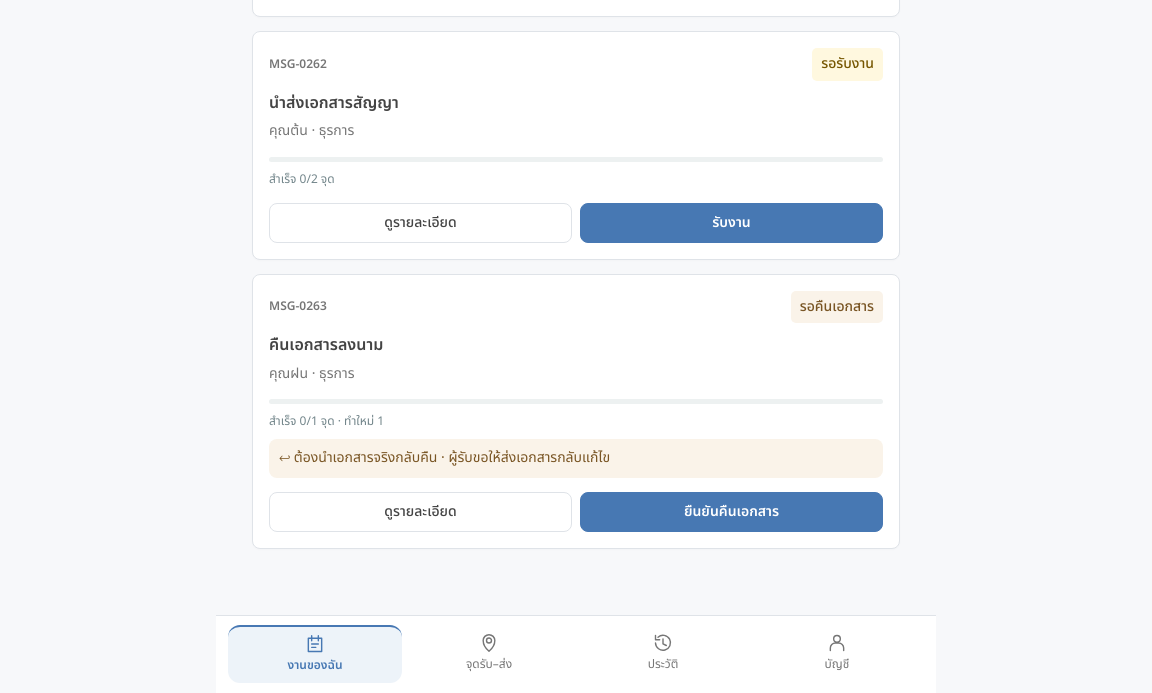
Test case: Messenger Phase 1 › confirms physical return without photos and keeps returned stops read-only
(page scrolled)
Click the button "ยืนยันคืนเอกสาร" at [732, 512], box [580, 492, 883, 532]
(page scrolled)
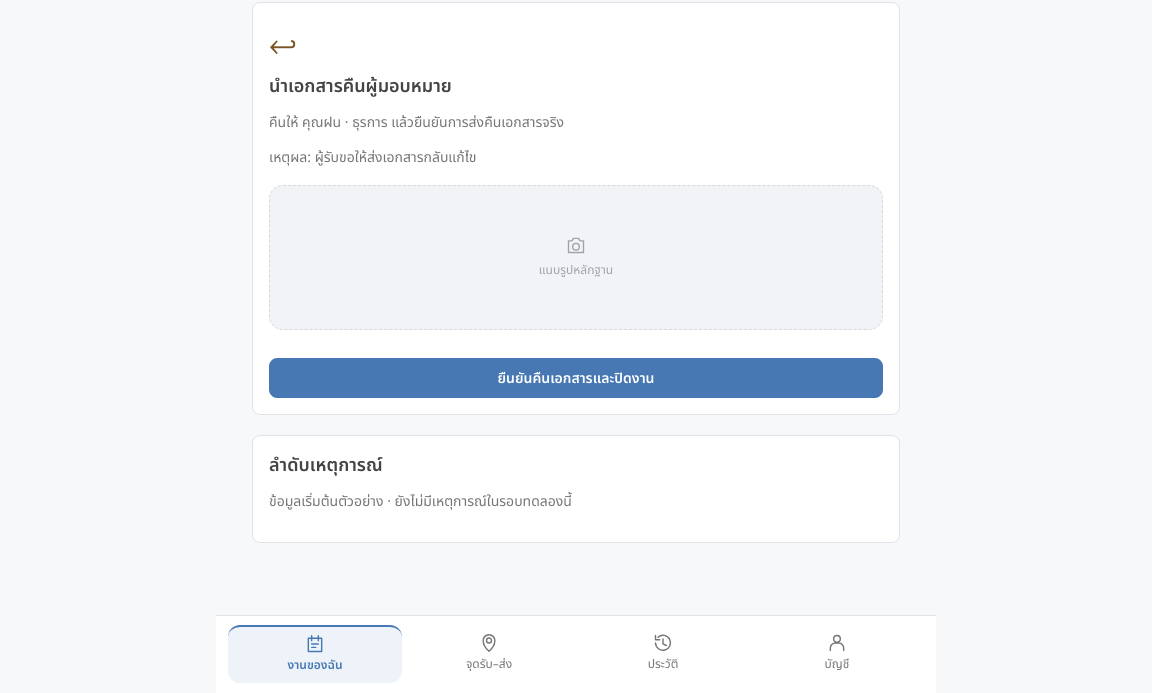
Click the button "ยืนยันคืนเอกสารและปิดงาน" at [576, 378], box [269, 358, 883, 398]
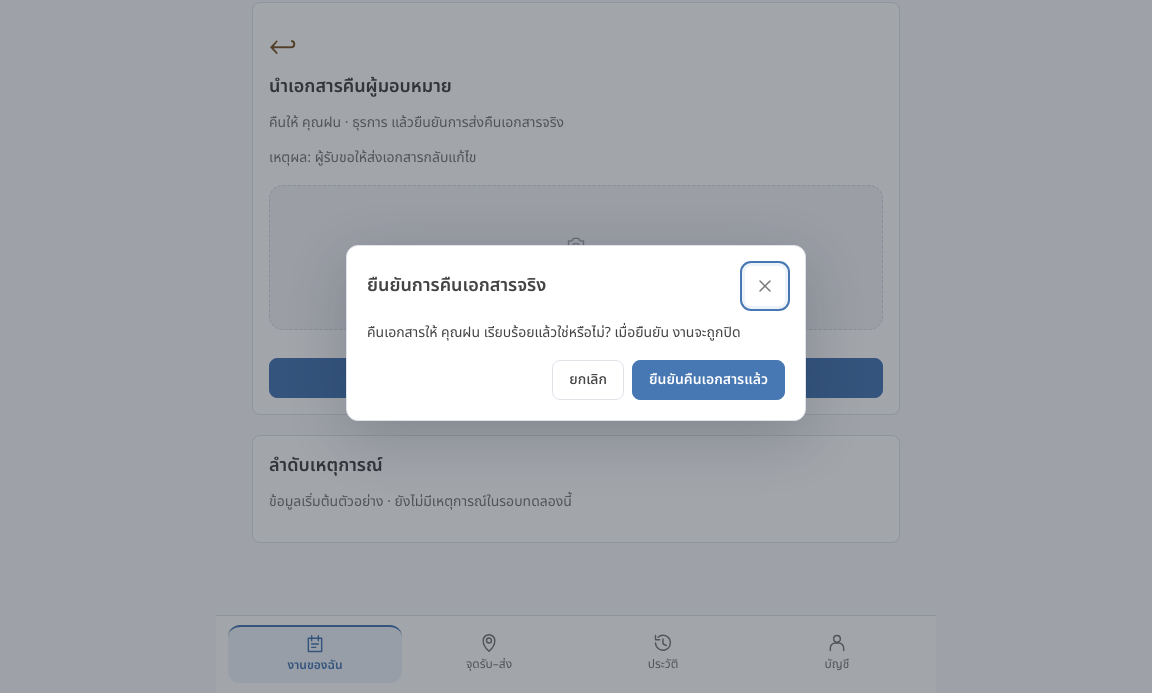
Click the button "ยืนยันคืนเอกสารแล้ว" at [708, 380], box [632, 360, 785, 400]
(page scrolled)
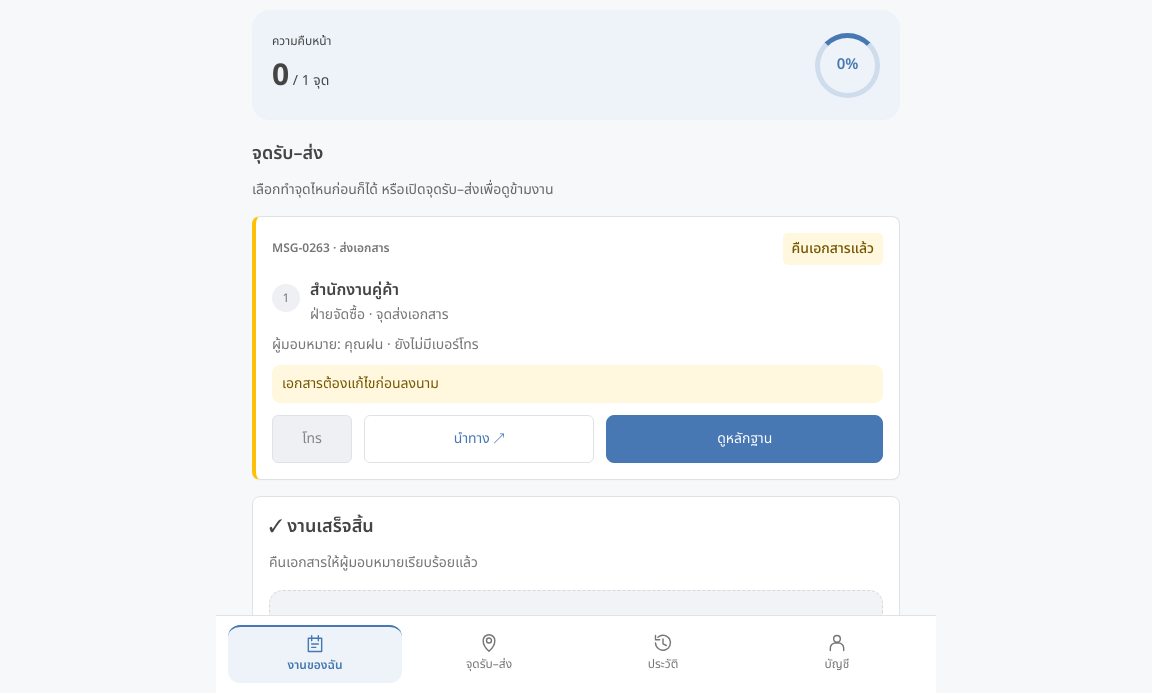
Click the button "ดูหลักฐาน" at [745, 439], box [606, 415, 883, 463]
(page scrolled)
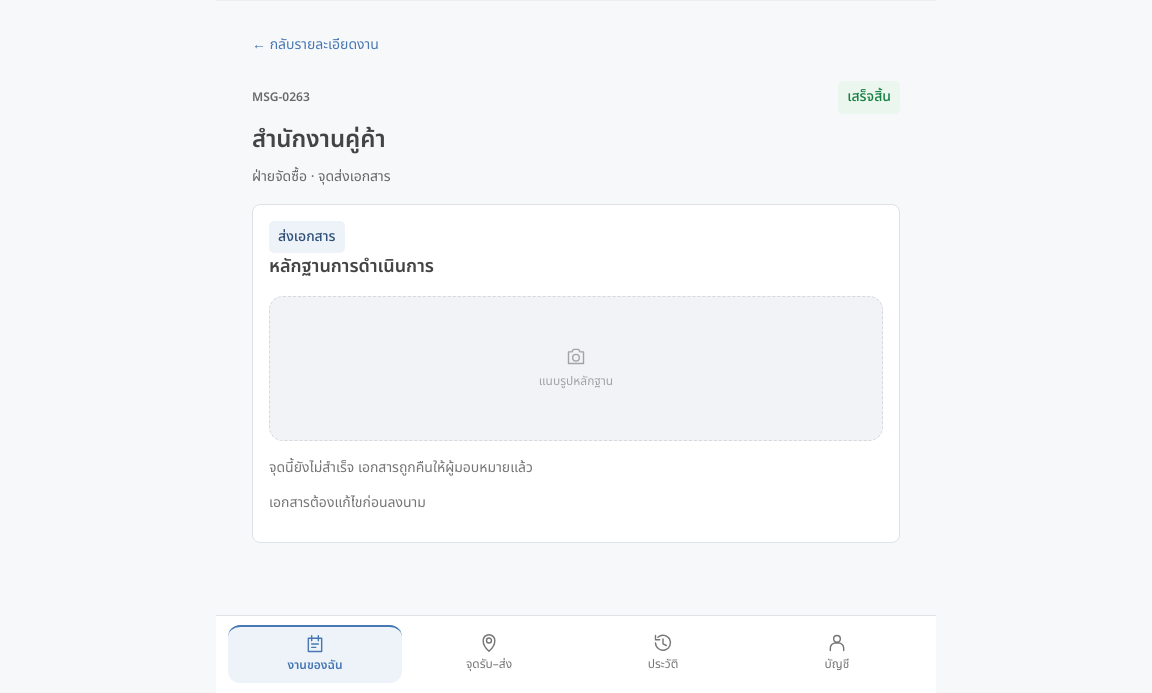
Now the text "จุดนี้ยังไม่สำเร็จ เอกสารถูกคืนให้ผู้มอบหมายแล้ว" is shown, box [269, 457, 533, 478]
